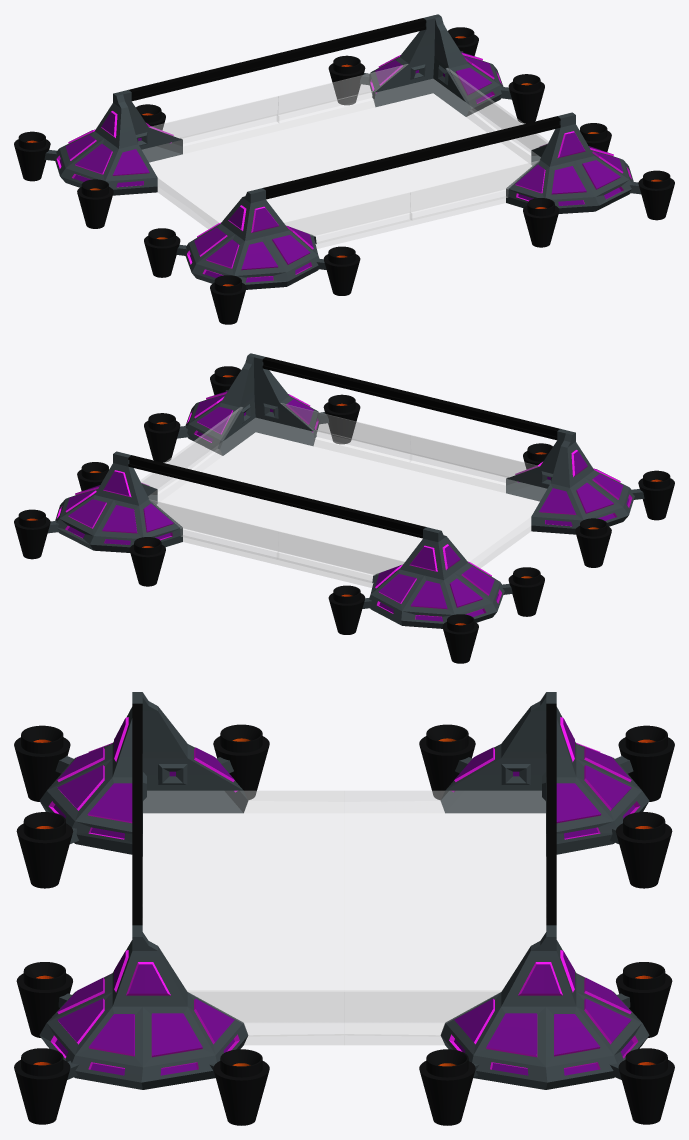
File: Arena.glb
3 renders of one model, top to bottom at view 1: azimuth 30°, elevation 25°; view 2: azimuth 150°, elevation 25°; view 3: azimuth 270°, elevation 25°, orthographic. The views are drawn at different scales.
Visible parts, largest first — view 1: Cube; view 2: Cube; view 3: Cube.
Boxes of the visible parts, left/top/right/bottom form: Cube: left=14, top=14, right=674, bottom=324; Cube: left=14, top=353, right=674, bottom=663; Cube: left=14, top=692, right=674, bottom=1125.
Size of the model in its own units: 29.17 by 5.58 by 23.37.
2 materials, 2 textured.
